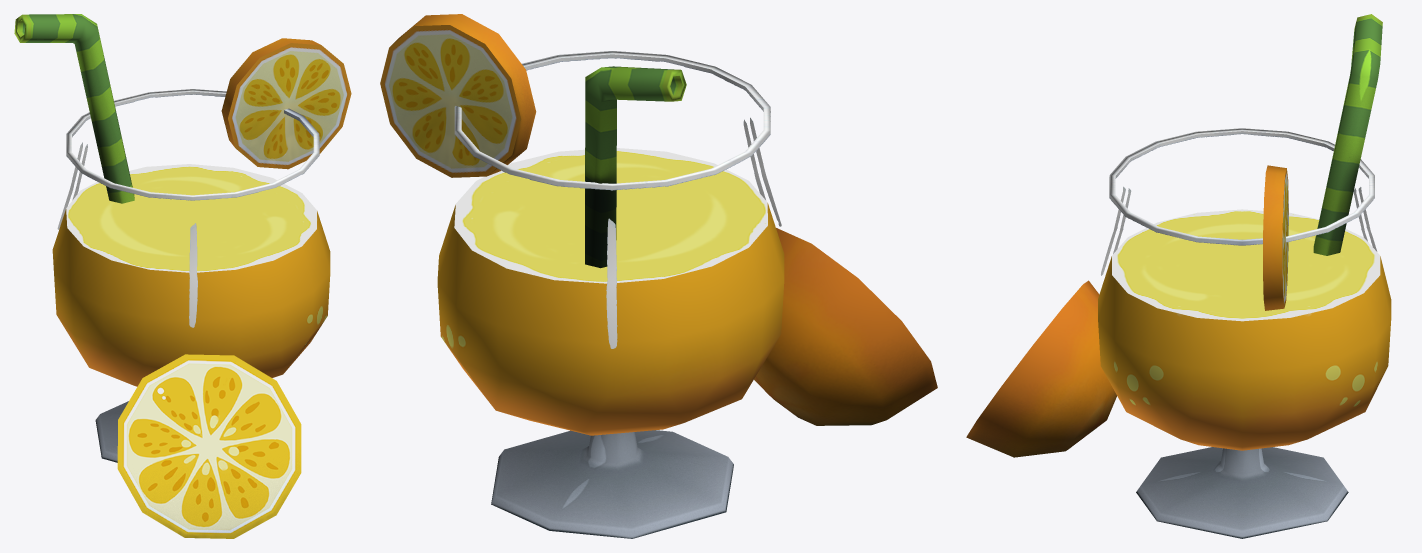
File: Orange.fbx
The picture shows the model from 3 angles, left to right: view 1: azimuth 30°, elevation 25°; view 2: azimuth 150°, elevation 25°; view 3: azimuth 270°, elevation 25°; orthographic projection. The views are drawn at different scales.
Visible parts, largest first — view 1: 038a, polySurface5, polySurface4, polySurface3, polySurface6, polySurface1; view 2: 038a, polySurface5, polySurface1, polySurface4, polySurface3, polySurface6; view 3: 038a, polySurface1, polySurface5, polySurface3, polySurface6, polySurface4.
Part boxes in pixels (left/top/right/bottom): 038a: left=52, top=164, right=330, bottom=386; polySurface5: left=117, top=354, right=301, bottom=538; polySurface4: left=221, top=38, right=351, bottom=169; polySurface3: left=14, top=14, right=134, bottom=203; polySurface6: left=57, top=89, right=319, bottom=327; polySurface1: left=95, top=401, right=128, bottom=462; 038a: left=437, top=148, right=784, bottom=435; polySurface5: left=754, top=228, right=937, bottom=425; polySurface1: left=491, top=430, right=733, bottom=538; polySurface4: left=380, top=14, right=536, bottom=177; polySurface3: left=585, top=66, right=686, bottom=268; polySurface6: left=454, top=51, right=781, bottom=348; 038a: left=1098, top=209, right=1391, bottom=450; polySurface1: left=1136, top=447, right=1348, bottom=538; polySurface5: left=966, top=280, right=1116, bottom=457; polySurface3: left=1313, top=14, right=1382, bottom=255; polySurface6: left=1101, top=128, right=1377, bottom=275; polySurface4: left=1263, top=165, right=1288, bottom=310.
Size of the model in its own units: 41.53 by 48.01 by 45.41.
1 material, 1 textured.
